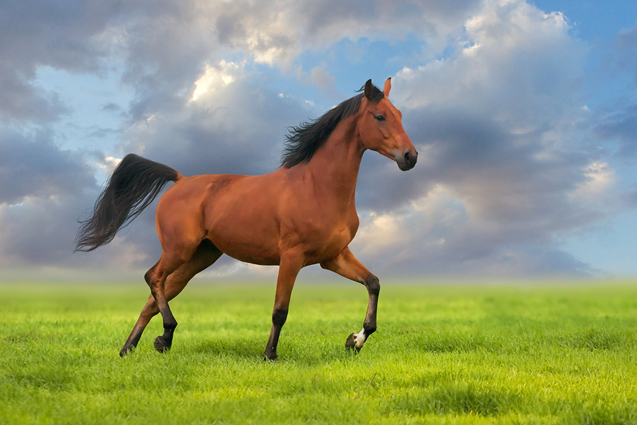horse: (101, 76, 420, 369)
